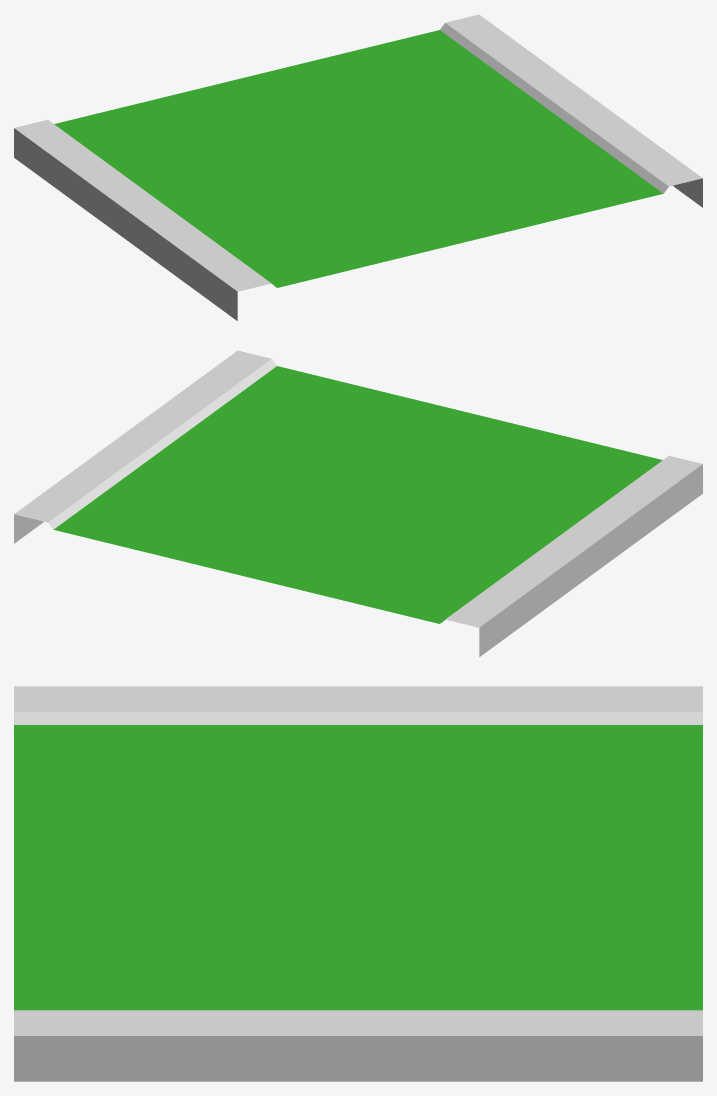
File: GrassBed_1_B_2_.fbx
The picture shows the model from 3 angles, top to bottom: view 1: azimuth 30°, elevation 25°; view 2: azimuth 150°, elevation 25°; view 3: azimuth 270°, elevation 25°; orthographic projection. The views are drawn at different scales.
Parts seen in each view (by area): view 1: GrassBed_1_B_2; view 2: GrassBed_1_B_2; view 3: GrassBed_1_B_2.
Part boxes in pixels (box(x1,y1,x2,y2)): GrassBed_1_B_2: box(14, 14, 702, 320); GrassBed_1_B_2: box(14, 350, 702, 656); GrassBed_1_B_2: box(14, 686, 702, 1081).
Bounding box in the file's own units: 120 × 7.32 × 100.
